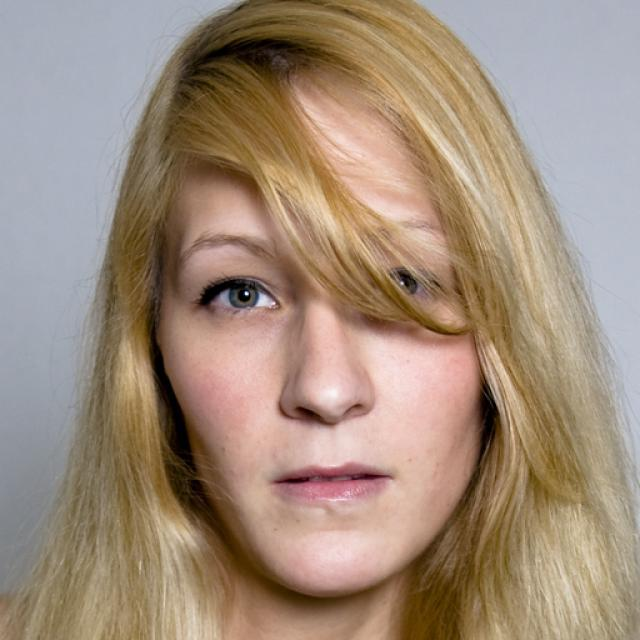neutral: (156, 125, 486, 594)
